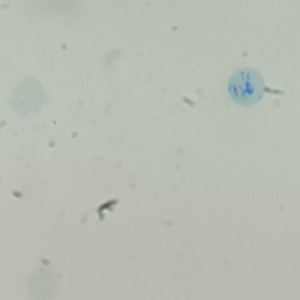aggregate reticulocyte: (226, 67, 267, 108)
erythrocyte: (8, 74, 47, 118)
